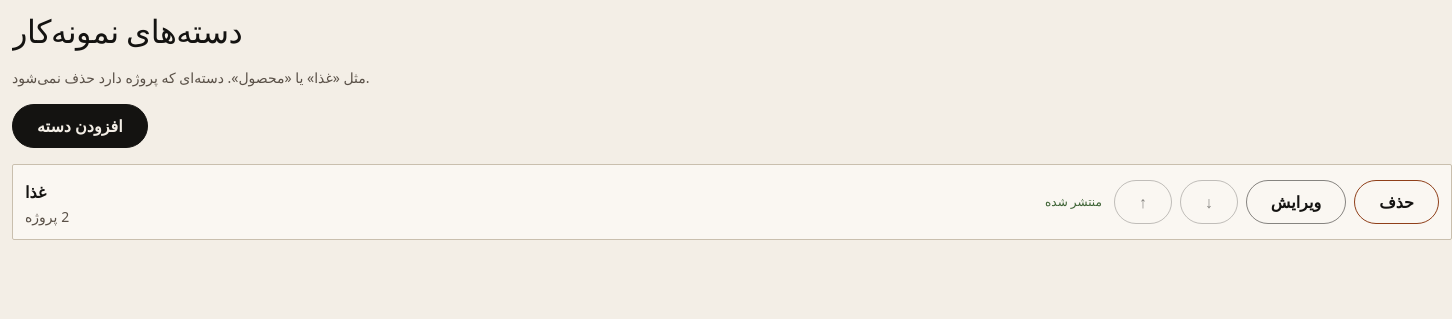
Scenario: CategoriesManager › shows the server's message when a category still has projects
Expected: the text "2 پروژه" is shown, [25,207,69,226]
Click the button with aria-label "حذف غذا" at point(1397, 202), box [1354,180,1439,224]
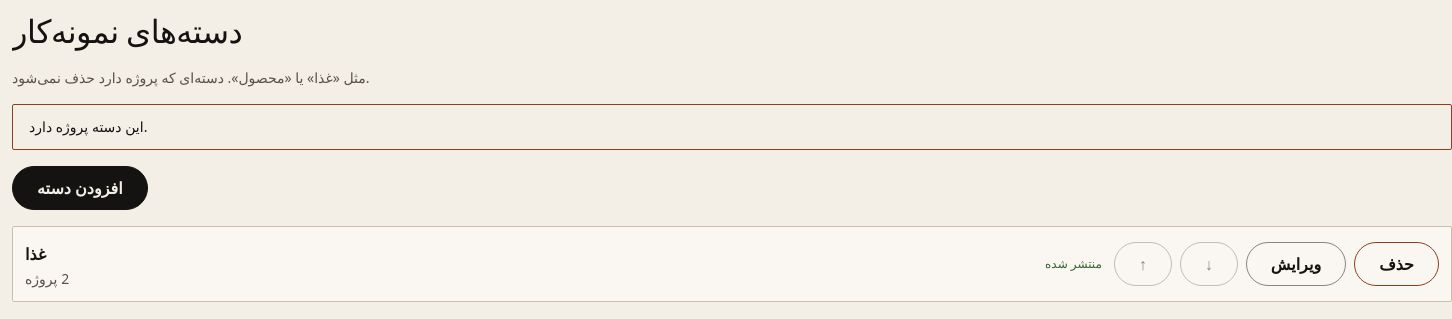
Expected: the text "این دسته پروژه دارد." is shown, [12,104,1451,150]
